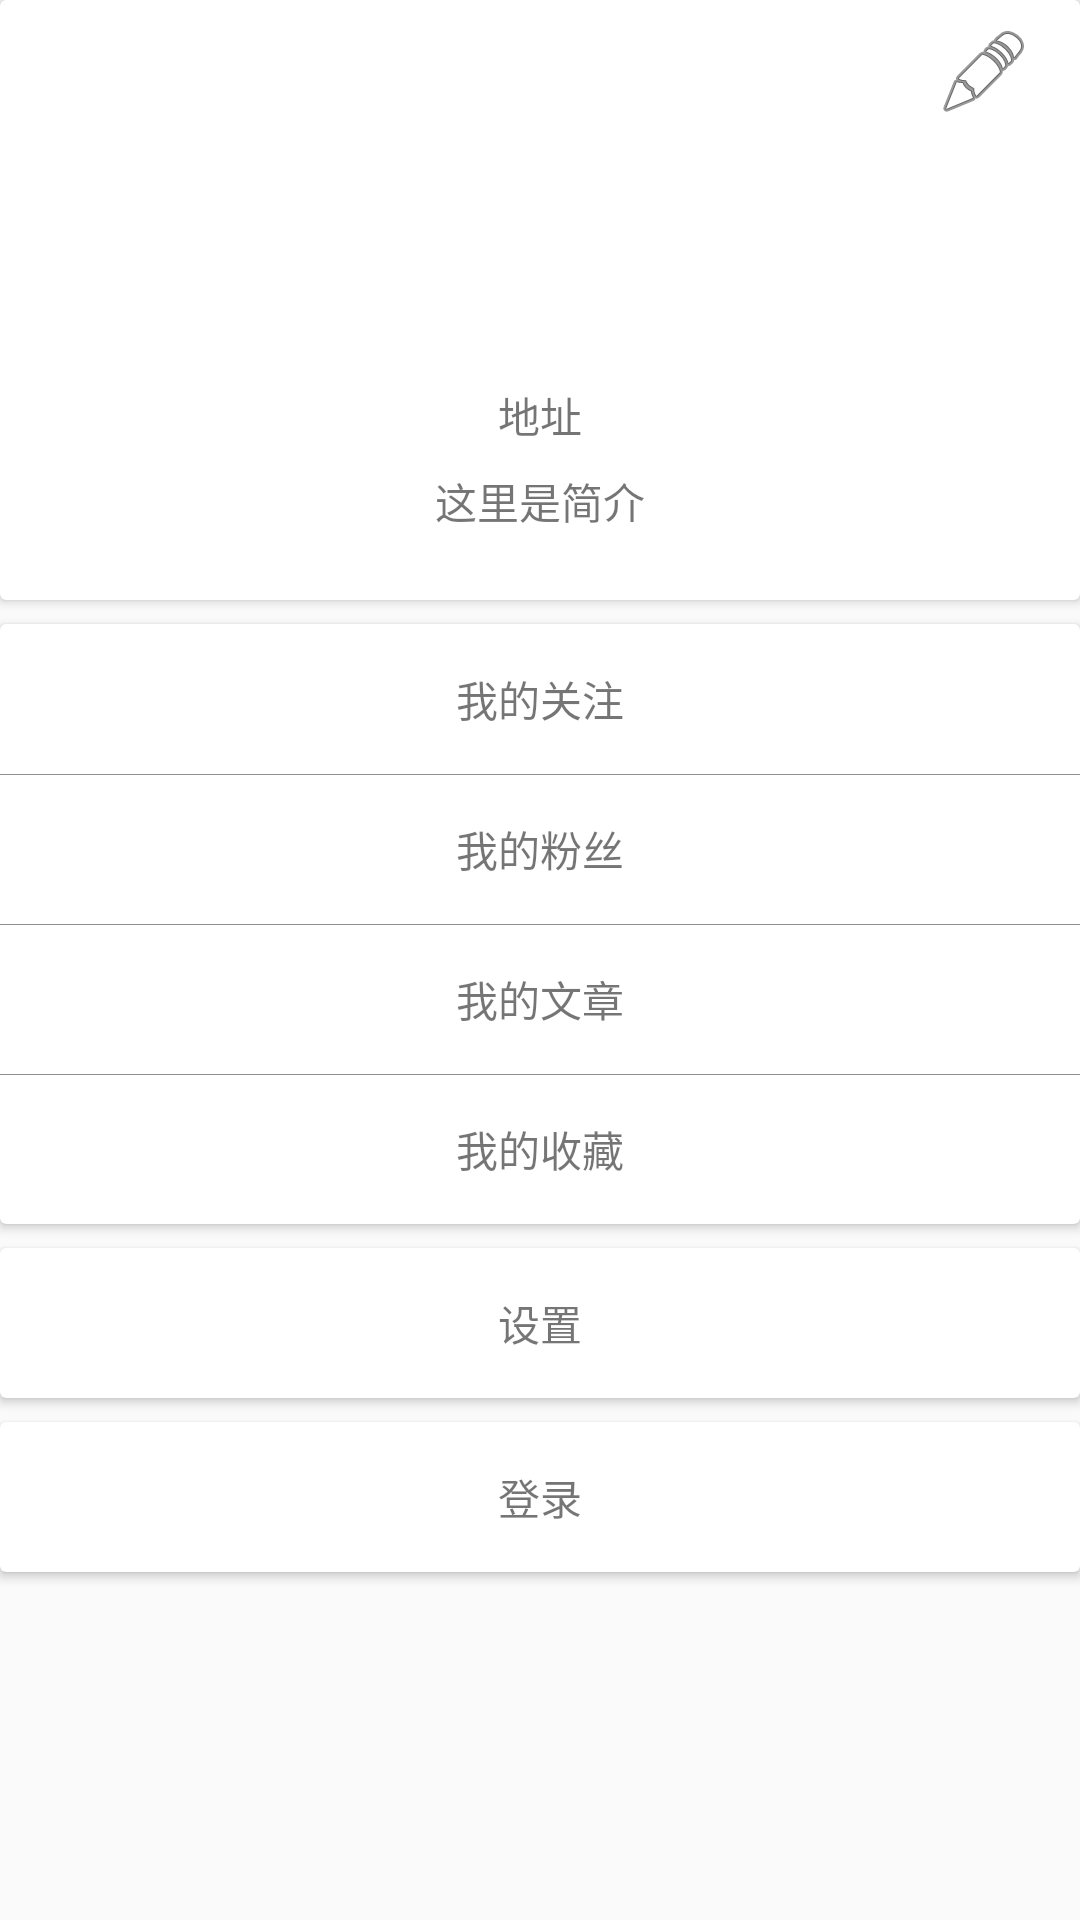

Named icons in this screenshot (1080*1920) and their bounding boxes, (x1, y1, x2, y2):
edit: (943, 31, 1024, 112)
